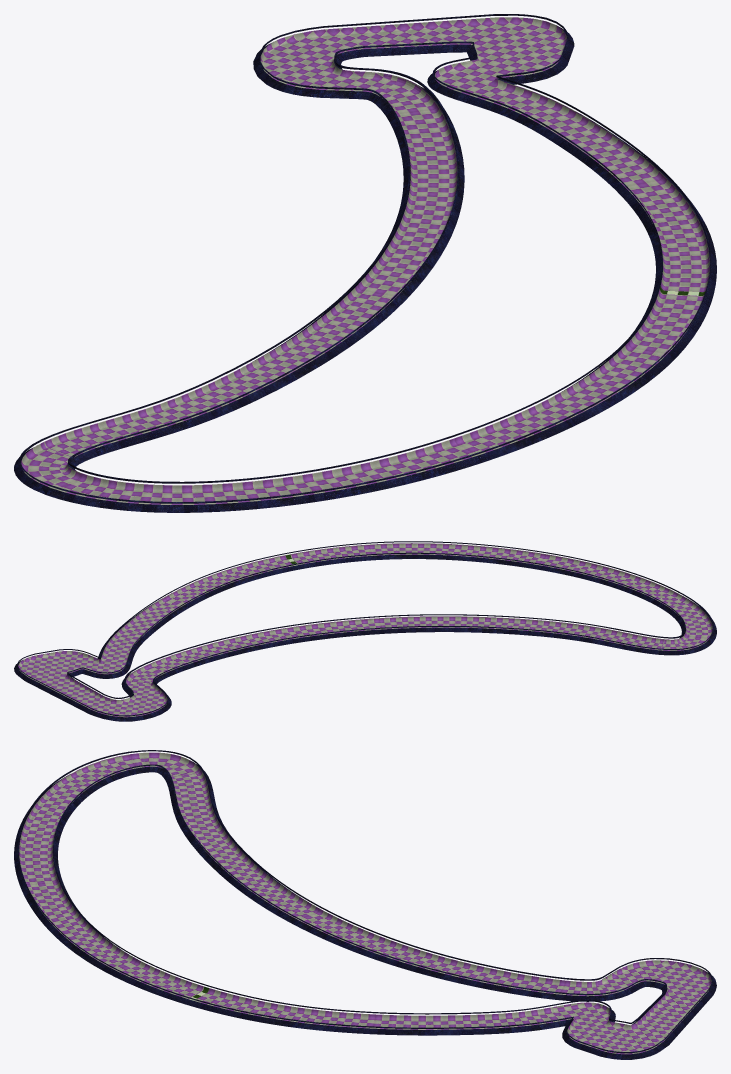
3 renders of one model, top to bottom at view 1: azimuth 30°, elevation 25°; view 2: azimuth 150°, elevation 25°; view 3: azimuth 270°, elevation 25°, orthographic. The views are drawn at different scales.
Visible parts, largest first — view 1: ROAD, NOCOLI, WALL; view 2: ROAD, NOCOLI, WALL; view 3: ROAD, NOCOLI, WALL.
Part boxes in pixels (x1,y1,x2,y2): ROAD: (21, 17, 709, 504); NOCOLI: (14, 26, 716, 512); WALL: (19, 14, 711, 503); ROAD: (18, 543, 712, 717); NOCOLI: (14, 554, 716, 721); WALL: (17, 541, 714, 716); ROAD: (19, 752, 711, 1054); NOCOLI: (14, 761, 716, 1059); WALL: (18, 750, 712, 1053).
Size of the model in its own units: 81778 by 869 by 79369.
4 materials, 4 textured.
